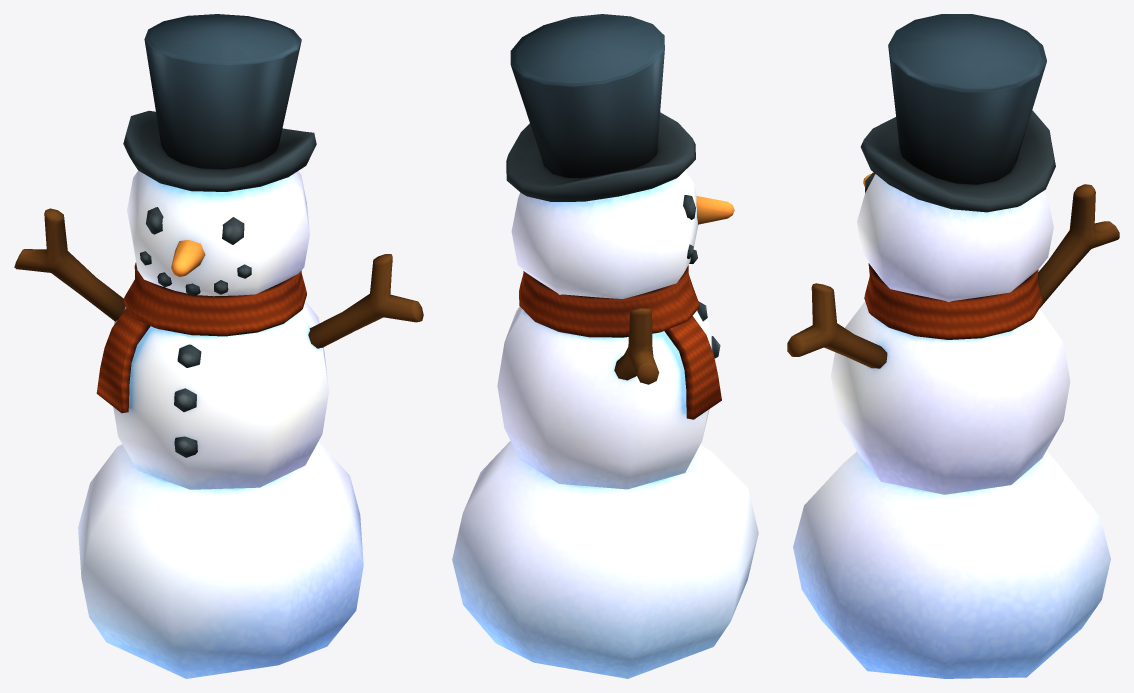
File: obj_snowman.gltf
3 renders of one model, left to right at view 1: azimuth 30°, elevation 25°; view 2: azimuth 150°, elevation 25°; view 3: azimuth 270°, elevation 25°, orthographic.
Parts seen in each view (by area): view 1: obj_snowman; view 2: obj_snowman; view 3: obj_snowman.
Part boxes in pixels (left/top/right/bottom): obj_snowman: left=14, top=14, right=423, bottom=678; obj_snowman: left=452, top=14, right=758, bottom=678; obj_snowman: left=787, top=14, right=1119, bottom=678.
Size of what is drawn, in the model's own units: 1.34 by 2.89 by 1.4.
1 material, 1 textured.
